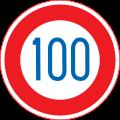Speed Limit -100-: (28, 33, 94, 86)
